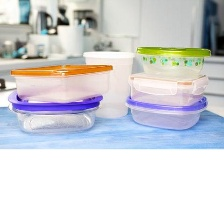plastic_box: (2, 83, 107, 136), (7, 58, 117, 108), (77, 45, 139, 123), (122, 88, 212, 133), (123, 67, 212, 111), (132, 41, 214, 82)
